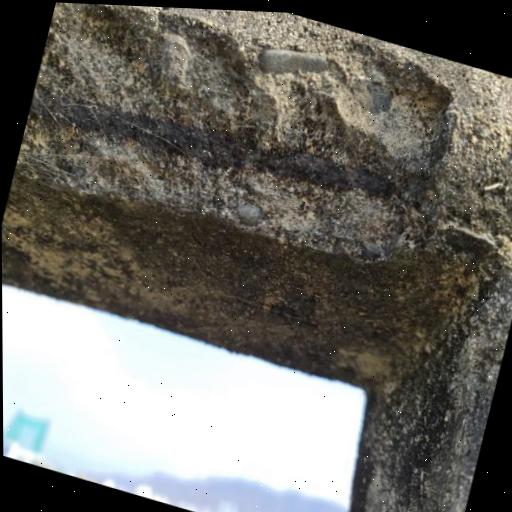exposed_rebar: (179, 129, 393, 197), (33, 91, 99, 133), (103, 110, 176, 142)
spalling: (16, 3, 450, 260)
